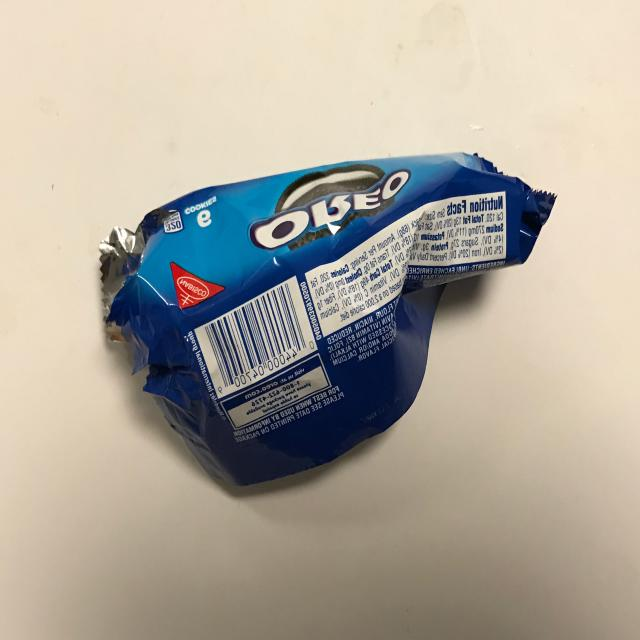trash: (99, 150, 558, 488)
